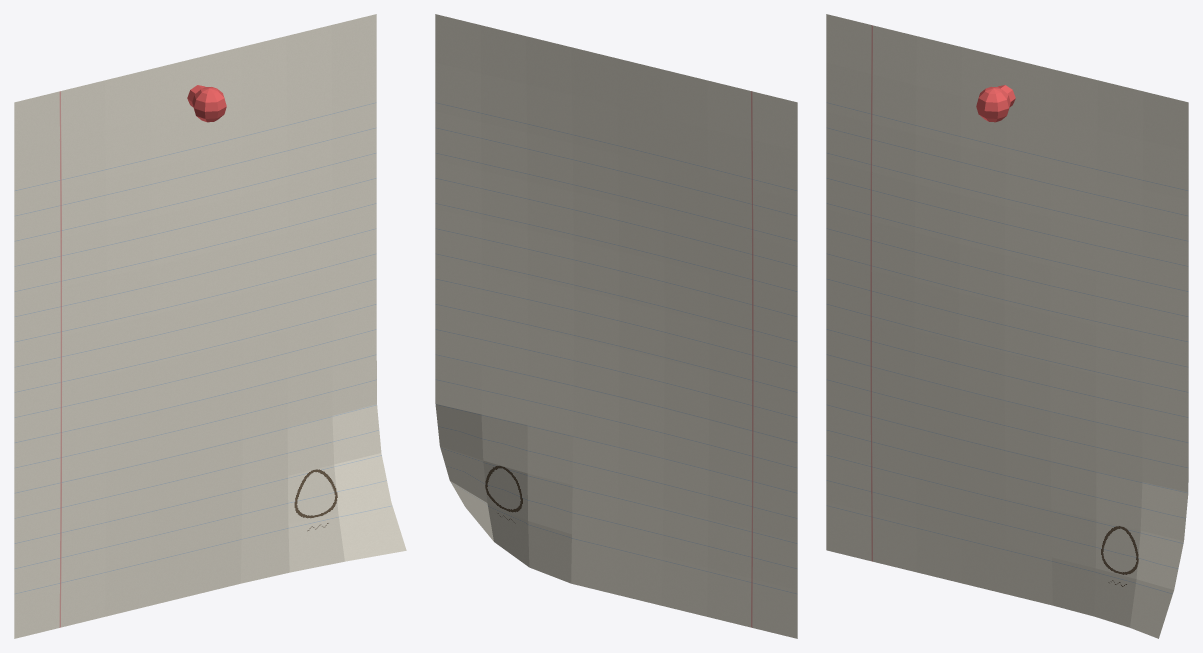
File: Note_A4.fbx
3 renders of one model, left to right at view 1: azimuth 30°, elevation 25°; view 2: azimuth 150°, elevation 25°; view 3: azimuth 330°, elevation 25°, orthographic.
Parts seen in each view (by area): view 1: Note_A4, Note_Pin; view 2: Note_A4; view 3: Note_A4, Note_Pin.
Part boxes in pixels (x1=…): Note_A4: x1=14, y1=14, x2=406, y2=638; Note_Pin: x1=187, y1=85, x2=226, y2=122; Note_A4: x1=435, y1=14, x2=797, y2=638; Note_A4: x1=826, y1=14, x2=1188, y2=638; Note_Pin: x1=976, y1=85, x2=1015, y2=122.
Bounding box in the file's own units: 0.21 × 0.297 × 0.03.
2 materials, 1 textured.
